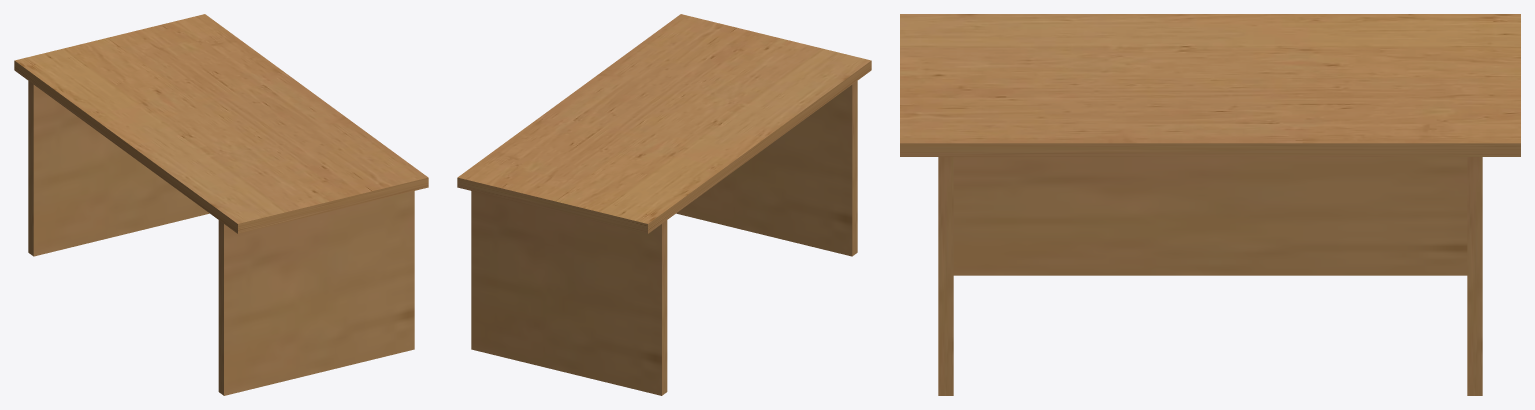
File: stol_mast01.fbx
The picture shows the model from 3 angles, left to right: view 1: azimuth 30°, elevation 25°; view 2: azimuth 150°, elevation 25°; view 3: azimuth 270°, elevation 25°; orthographic projection. The views are drawn at different scales.
Parts seen in each view (by area): view 1: stol_masterkaya; view 2: stol_masterkaya; view 3: stol_masterkaya.
Part boxes in pixels (x1,y1,x2,y2): stol_masterkaya: (14,14,428,395); stol_masterkaya: (457,14,871,395); stol_masterkaya: (900,14,1520,395).
Size of the model in its own units: 0.5364 by 0.4895 by 1.09.
